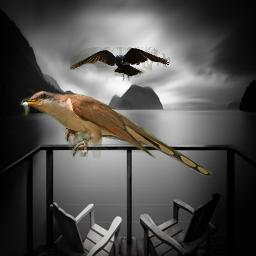Crow: (70, 47, 170, 81)
Cuckoo: (17, 90, 213, 177)
